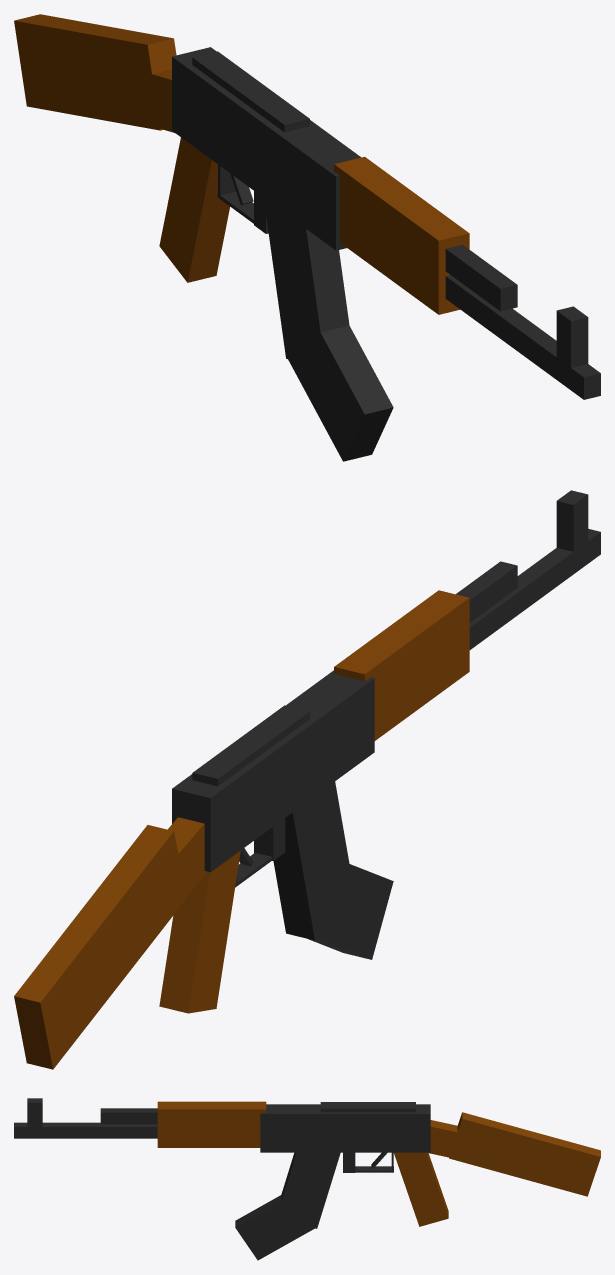
The model's file is voidffa_AK47_V2.glb.
3 views of the same model, one above another, from view 1: azimuth 30°, elevation 25°; view 2: azimuth 150°, elevation 25°; view 3: azimuth 270°, elevation 25° (orthographic). The views are drawn at different scales.
Parts seen in each view (by area): view 1: Cube.007, Cube.010, Cube.005, Cube.020, Cube.021, Cube.023, Cube, Cube.008, Cube.009, Cube.006, Cube.001; view 2: Cube.010, Cube.007, Cube.005, Cube.021, Cube.023, Cube.020, Cube, Cube.009, Cube.008, Cube.001, Cube.006, Cube.017; view 3: Cube.007, Cube.010, Cube.005, Cube.020, Cube.021, Cube.023, Cube, Cube.009, Cube.008, Cube.006, Cube.001, Cube.017 (+1 smaller).
Boxes of the visible parts, x1,y1,x2,y2 form: Cube.007: [172, 47, 361, 250]; Cube.010: [14, 14, 176, 130]; Cube.005: [334, 156, 469, 314]; Cube.020: [286, 318, 393, 461]; Cube.021: [263, 198, 349, 364]; Cube.023: [159, 137, 229, 282]; Cube: [445, 275, 600, 399]; Cube.008: [192, 51, 309, 132]; Cube.009: [118, 64, 174, 132]; Cube.006: [445, 244, 517, 311]; Cube.001: [556, 306, 588, 377]; Cube.010: [14, 825, 186, 1069]; Cube.007: [172, 670, 374, 872]; Cube.005: [334, 590, 469, 740]; Cube.021: [273, 781, 352, 940]; Cube.023: [159, 850, 240, 1013]; Cube.020: [308, 859, 393, 959]; Cube: [469, 529, 600, 649]; Cube.009: [145, 817, 207, 936]; Cube.008: [192, 705, 309, 786]; Cube.001: [556, 490, 588, 558]; Cube.006: [456, 561, 517, 622]; Cube.017: [254, 818, 285, 860]; Cube.007: [260, 1104, 430, 1152]; Cube.010: [449, 1112, 600, 1196]; Cube.005: [157, 1101, 266, 1147]; Cube.020: [235, 1195, 316, 1260]; Cube.021: [281, 1152, 340, 1228]; Cube.023: [394, 1152, 448, 1226]; Cube: [14, 1122, 157, 1138]; Cube.009: [427, 1120, 491, 1165]; Cube.008: [320, 1102, 415, 1112]; Cube.006: [100, 1108, 157, 1124]; Cube.001: [27, 1098, 42, 1132]; Cube.017: [343, 1152, 355, 1172].
Bounding box in the file's own units: 0.1899 × 1.41 × 4.8.
